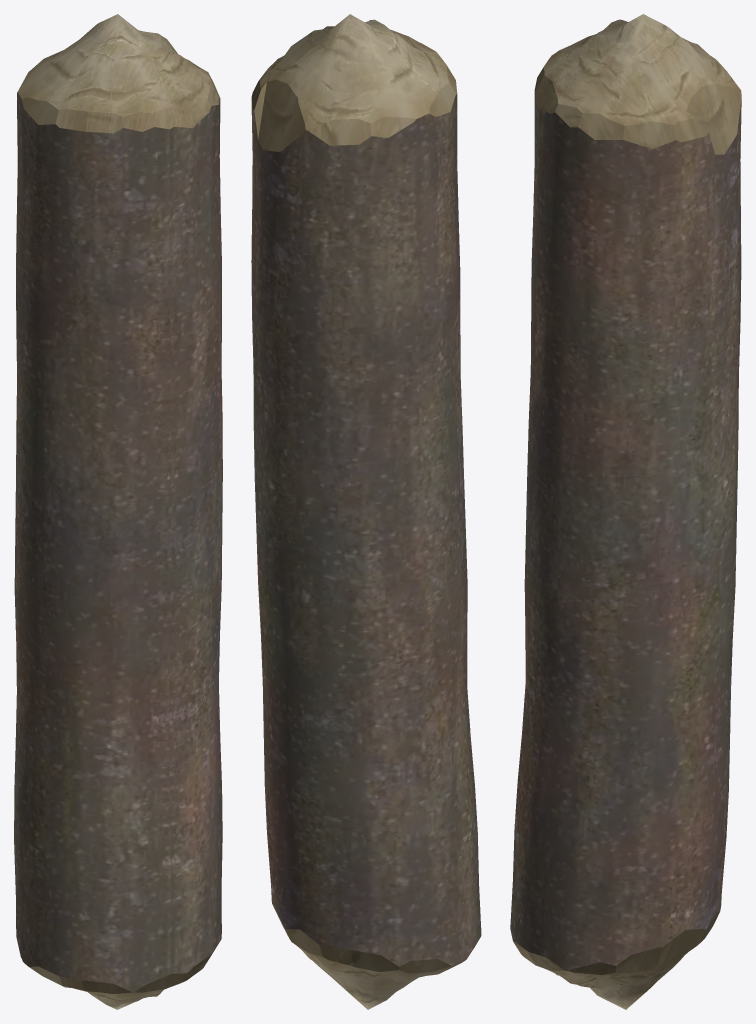
3 renders of one model, left to right at view 1: azimuth 30°, elevation 25°; view 2: azimuth 150°, elevation 25°; view 3: azimuth 270°, elevation 25°, orthographic.
Parts seen in each view (by area): view 1: SM_BM_Ash_Tree_03_quarter_02_LOD0; view 2: SM_BM_Ash_Tree_03_quarter_02_LOD0; view 3: SM_BM_Ash_Tree_03_quarter_02_LOD0.
Part boxes in pixels (x1,y1,x2,y2): SM_BM_Ash_Tree_03_quarter_02_LOD0: (14, 14, 222, 1009); SM_BM_Ash_Tree_03_quarter_02_LOD0: (251, 14, 481, 1009); SM_BM_Ash_Tree_03_quarter_02_LOD0: (510, 14, 741, 1009).
Size of the model in its own units: 0.4907 by 2.46 by 0.5163.
Materials: 1 (1 with a texture image).
